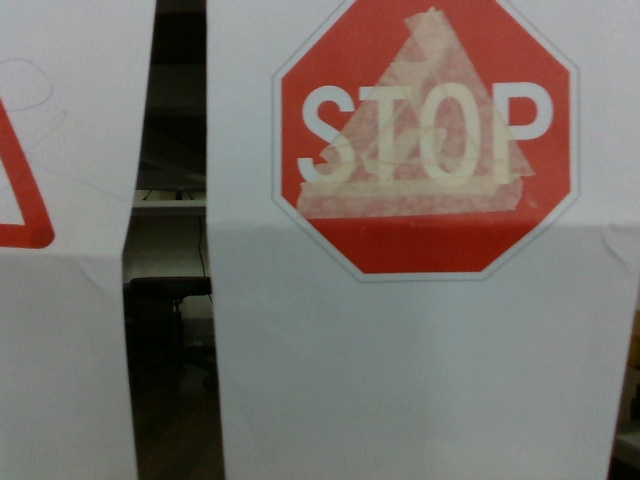stop: (276, 1, 583, 287)
